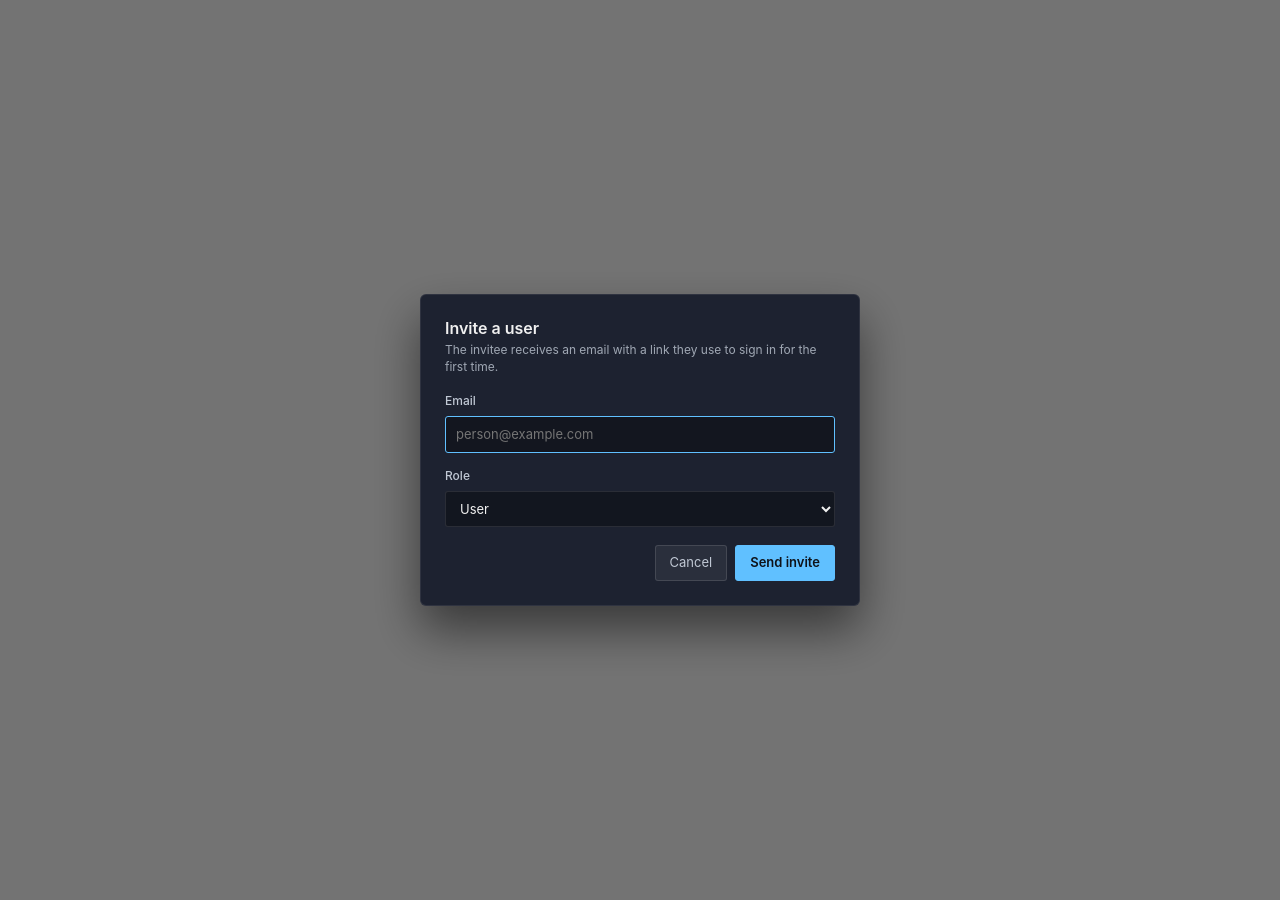
Test case: InviteForm › shows the email-failed banner when SMTP fails (no auto-dismiss)
In the field with test id "invite-form-email": (640, 435) [445,416,835,453], type "newperson@example.com"
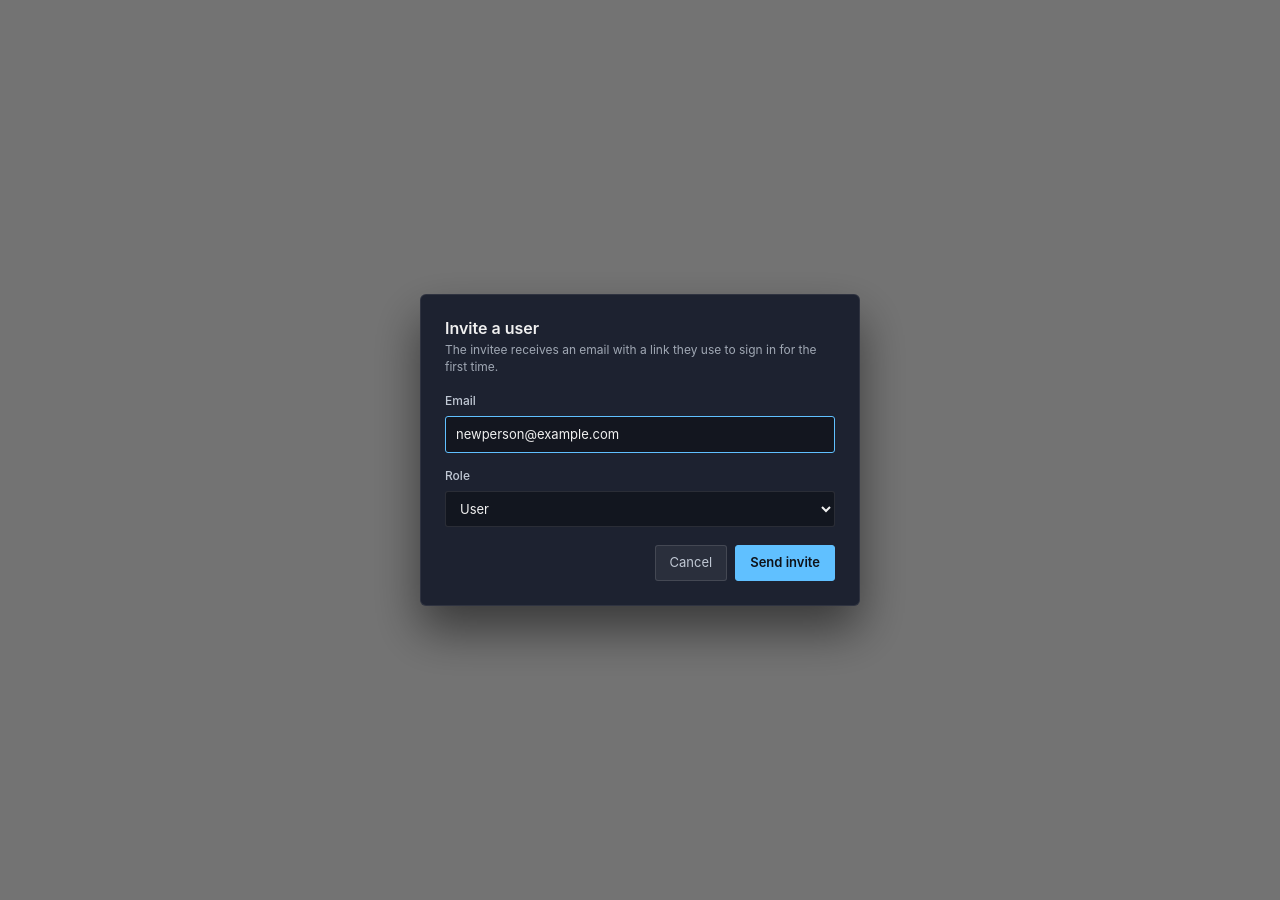
Click the button with test id "invite-form-submit": (785, 563) [735,545,835,581]
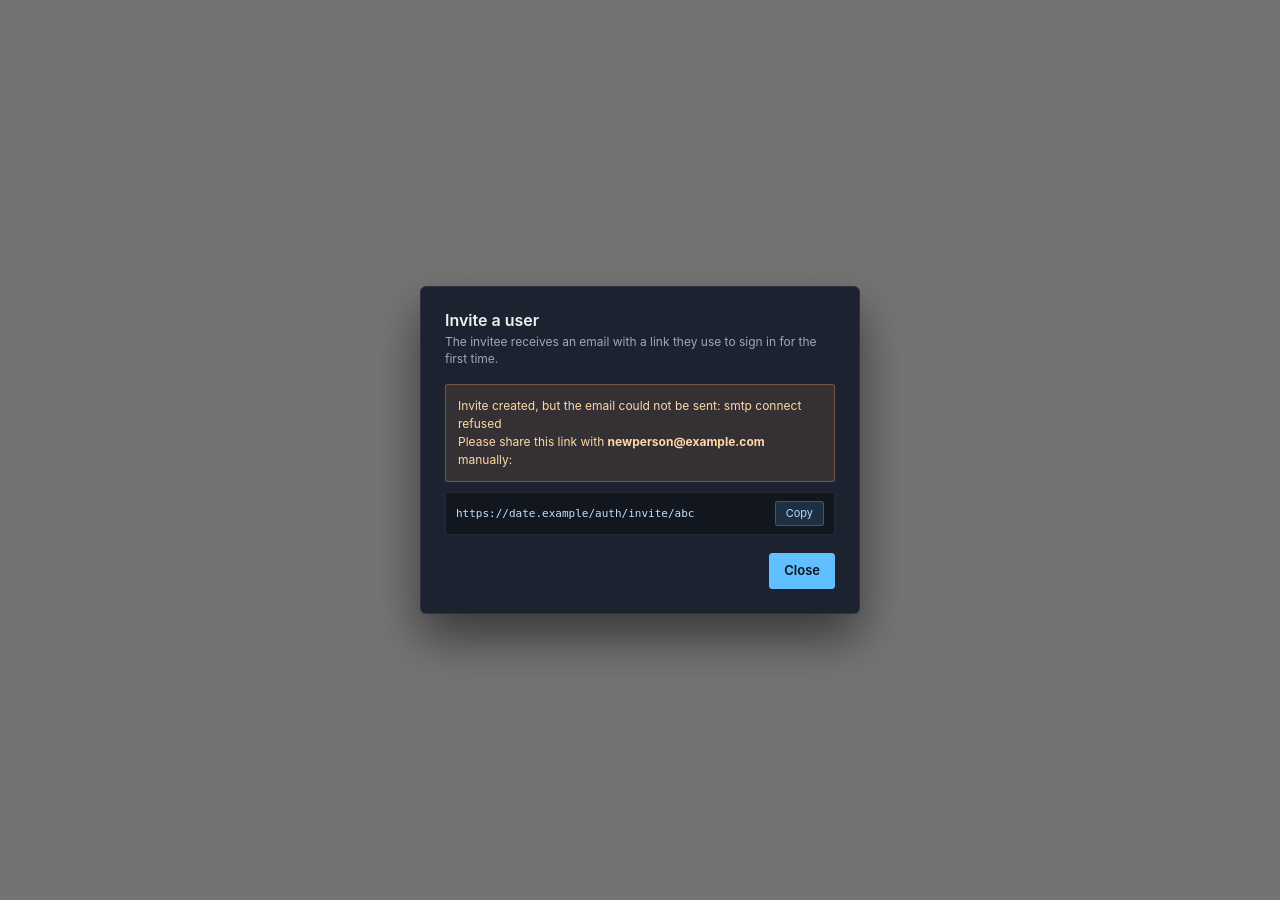
expect the element with test id "invite-form-success-failed" is shown: met, box [445,384,835,589]
expect the element with test id "invite-form-success-failed" shows "smtp connect refused": met, box [458,398,801,431]
